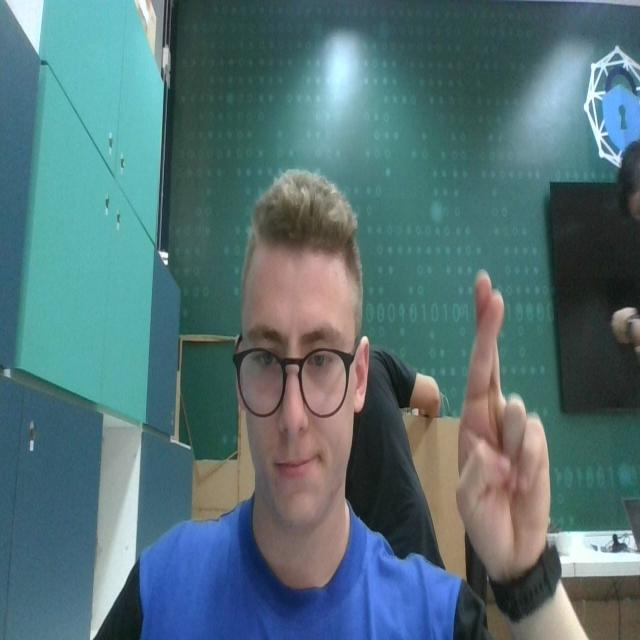R: (454, 265, 555, 578)
